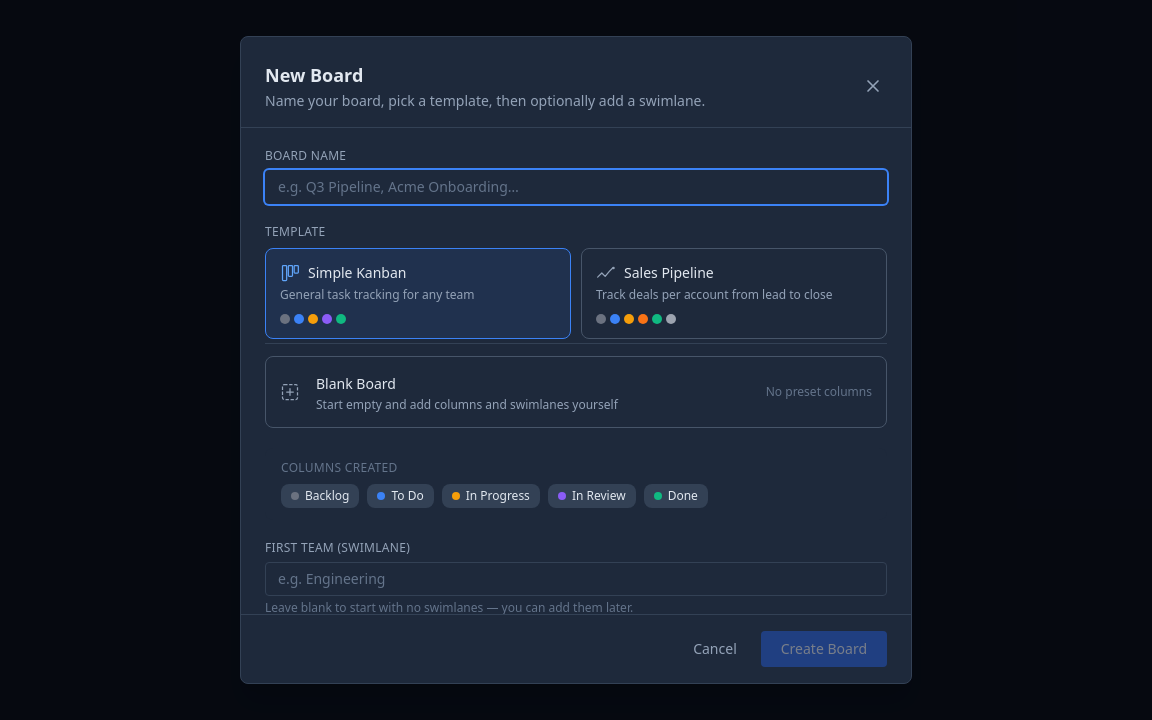
it: CreateBoardModal › clears submission error when name input changes (#486)
Type "My Board" into the field with placeholder "e.g. Q3 Pipeline, Acme Onboarding…" at x=576, y=187, box [265, 170, 887, 204]
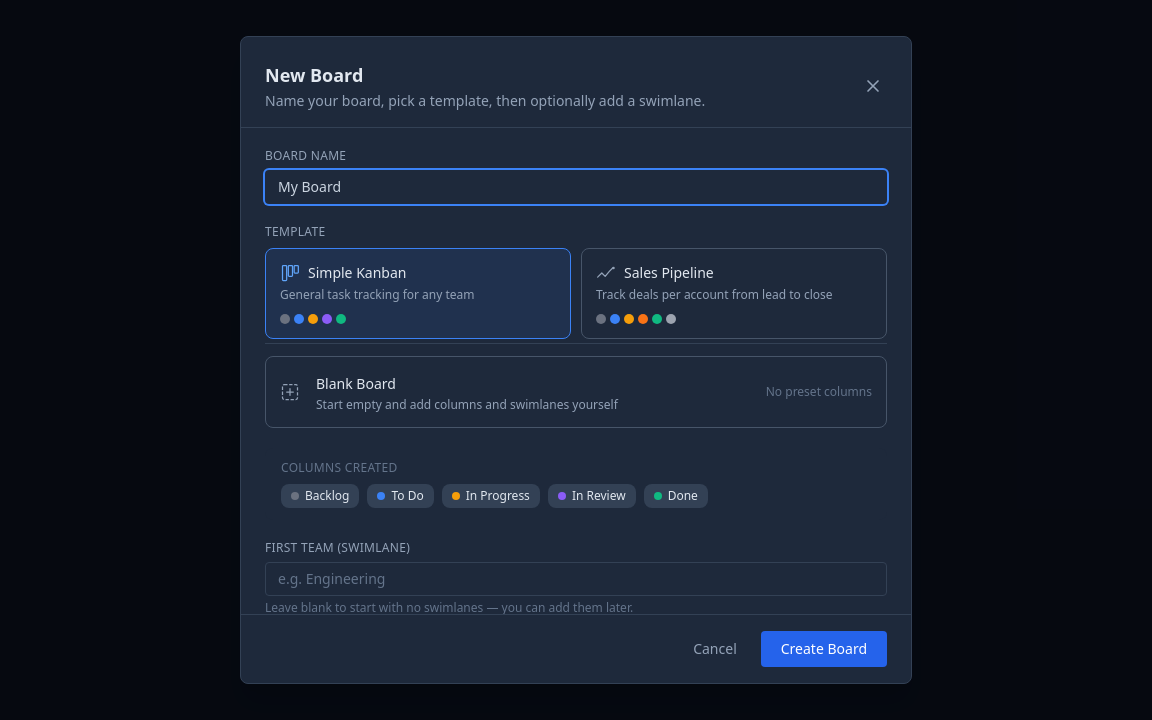
Click the button "Create Board" at x=824, y=649, box [761, 631, 887, 667]
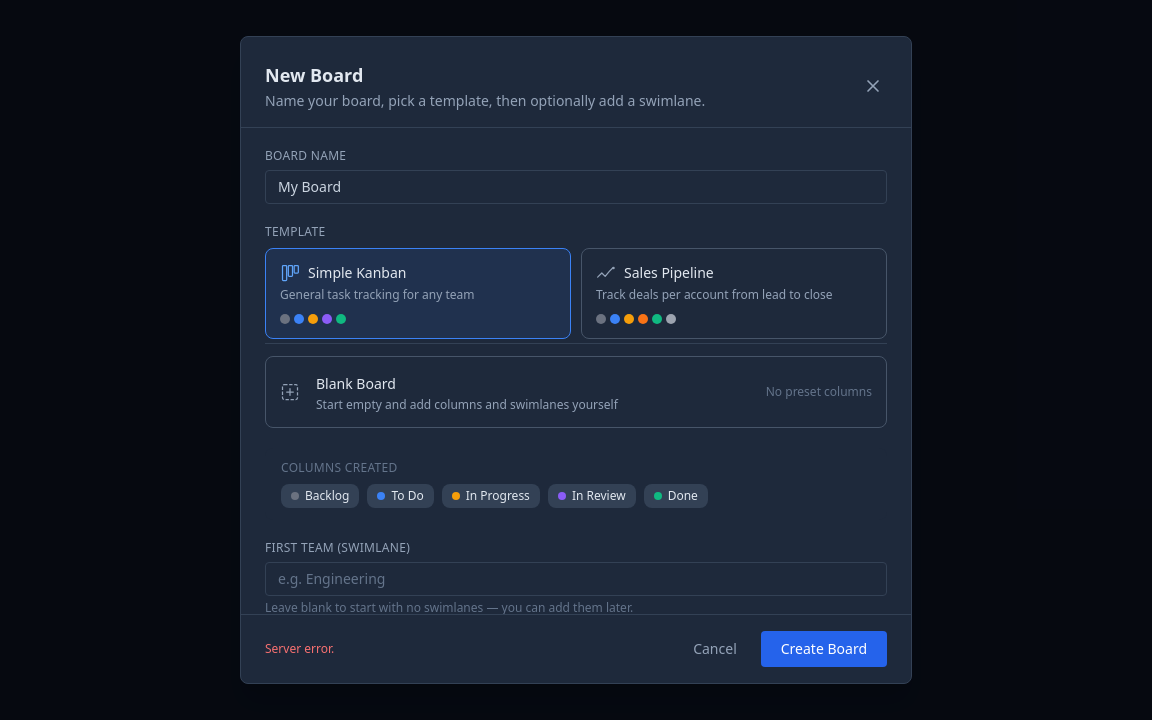
Now the text "Server error." is shown, box [265, 640, 334, 657]
Type "!" into the field with placeholder "e.g. Q3 Pipeline, Acme Onboarding…" at x=576, y=187, box [265, 170, 887, 204]
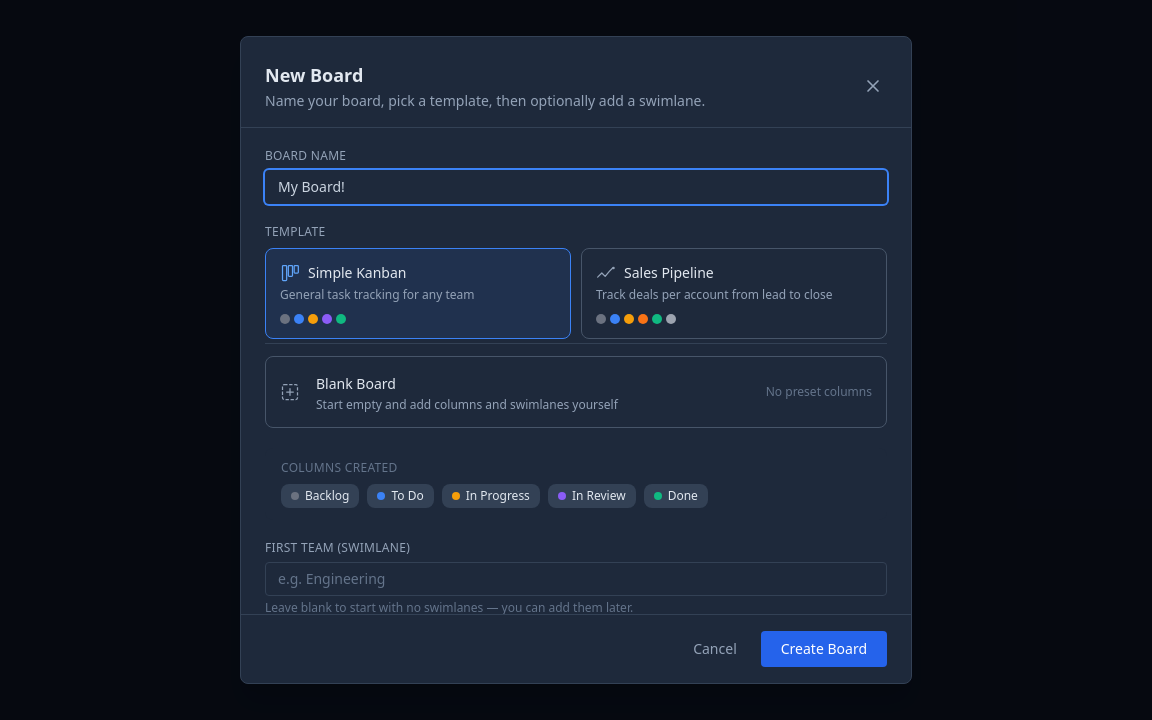
Now the text "Server error." is gone
